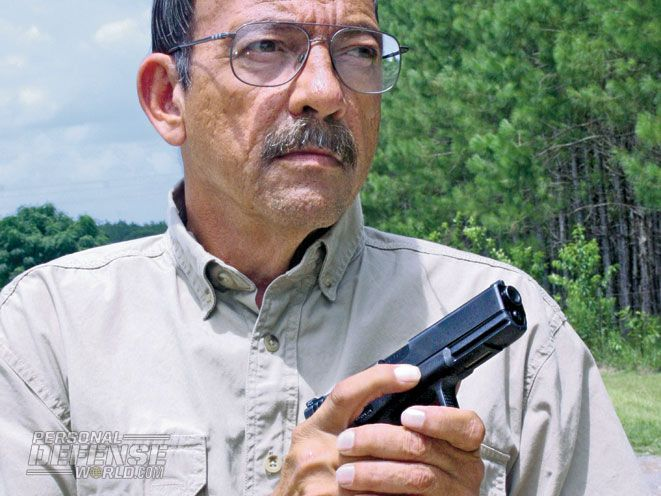gun: (283, 259, 529, 466)
